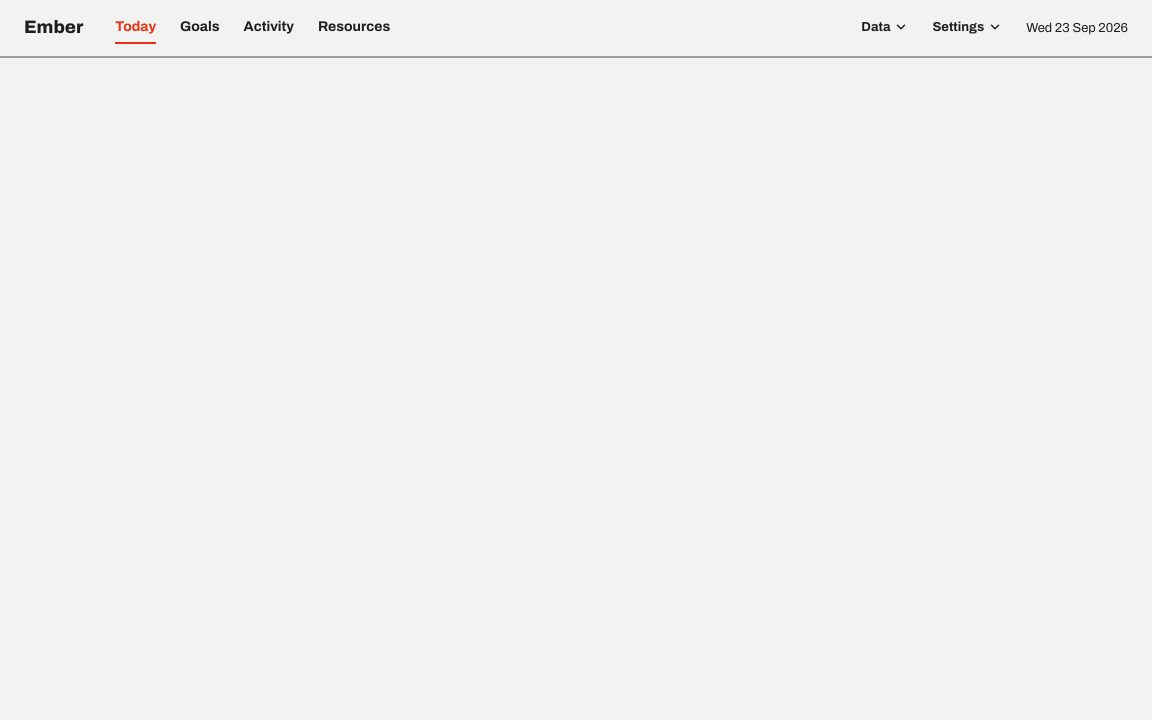
Scenario: NavBar › has the Settings menu after Data, and opening one closes the other
expect the button with class "sm-toggle" reads "Settings": met, box [932, 13, 1002, 43]
Click the button with class "dm-toggle" at (885, 28), box [861, 13, 908, 43]
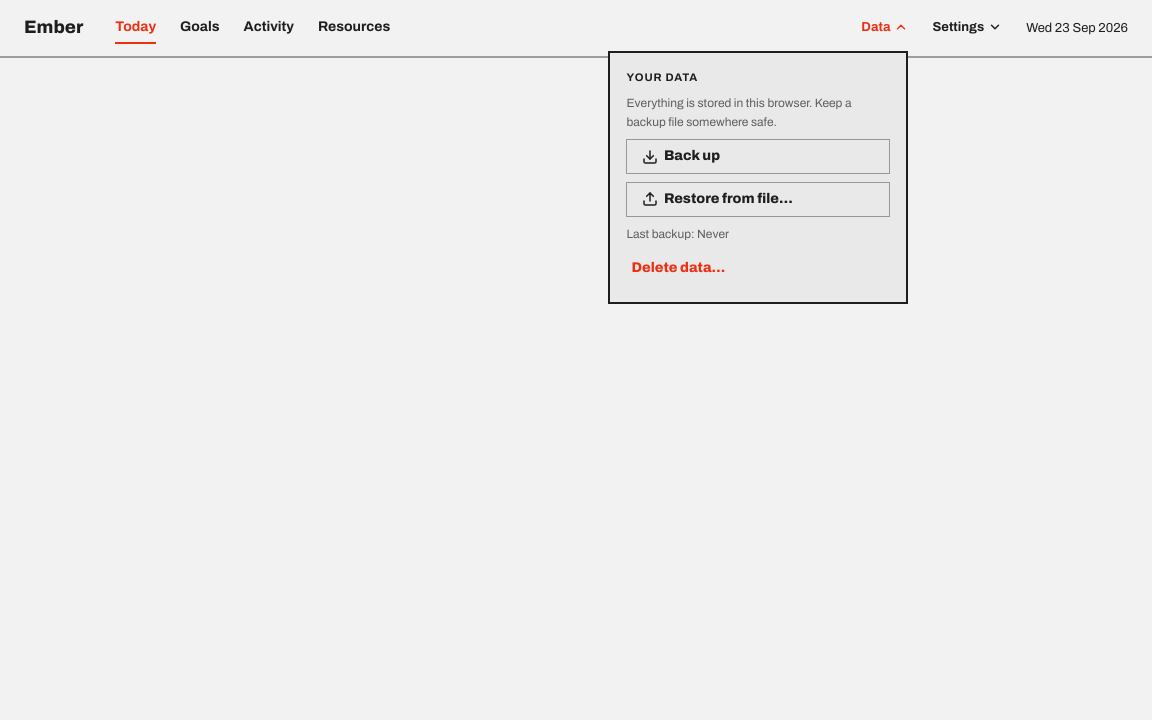
Click the button with class "sm-toggle" at (967, 28), box [932, 13, 1002, 43]
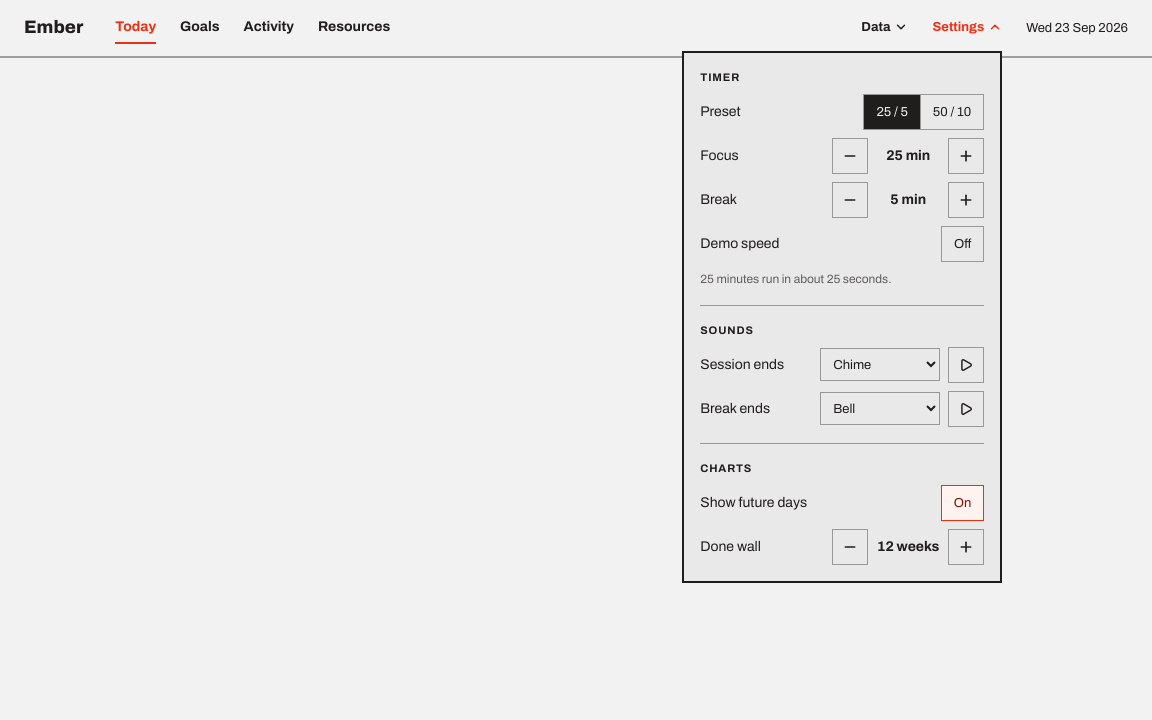
expect the element with class "sm-panel" is shown: met, box [682, 51, 1002, 583]
